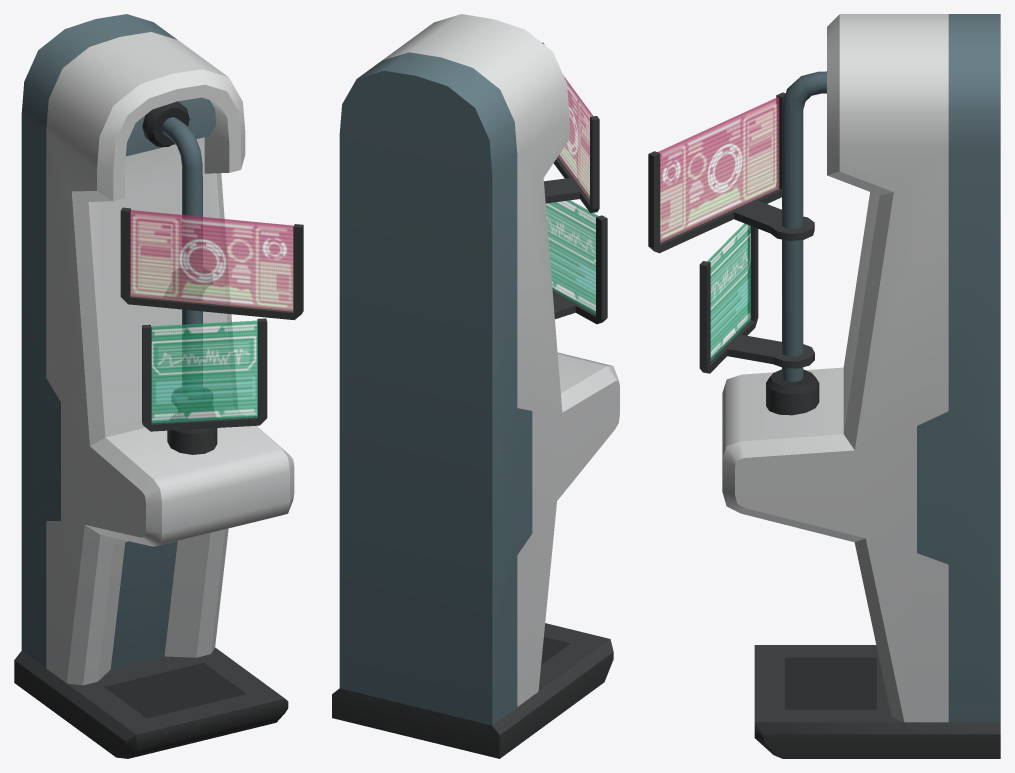
The model's file is Terminal_005.glb.
The picture shows the model from 3 angles, left to right: view 1: azimuth 30°, elevation 25°; view 2: azimuth 150°, elevation 25°; view 3: azimuth 270°, elevation 25°; orthographic projection. The views are drawn at different scales.
Visible parts, largest first — view 1: Terminal_005; view 2: Terminal_005; view 3: Terminal_005.
Boxes of the visible parts, bbox=[...] form: Terminal_005: bbox=[14, 14, 303, 758]; Terminal_005: bbox=[332, 14, 619, 758]; Terminal_005: bbox=[648, 14, 1000, 758].
Size of the model in its own units: 0.5562 by 2.1 by 0.9739.
2 materials, 2 textured.
